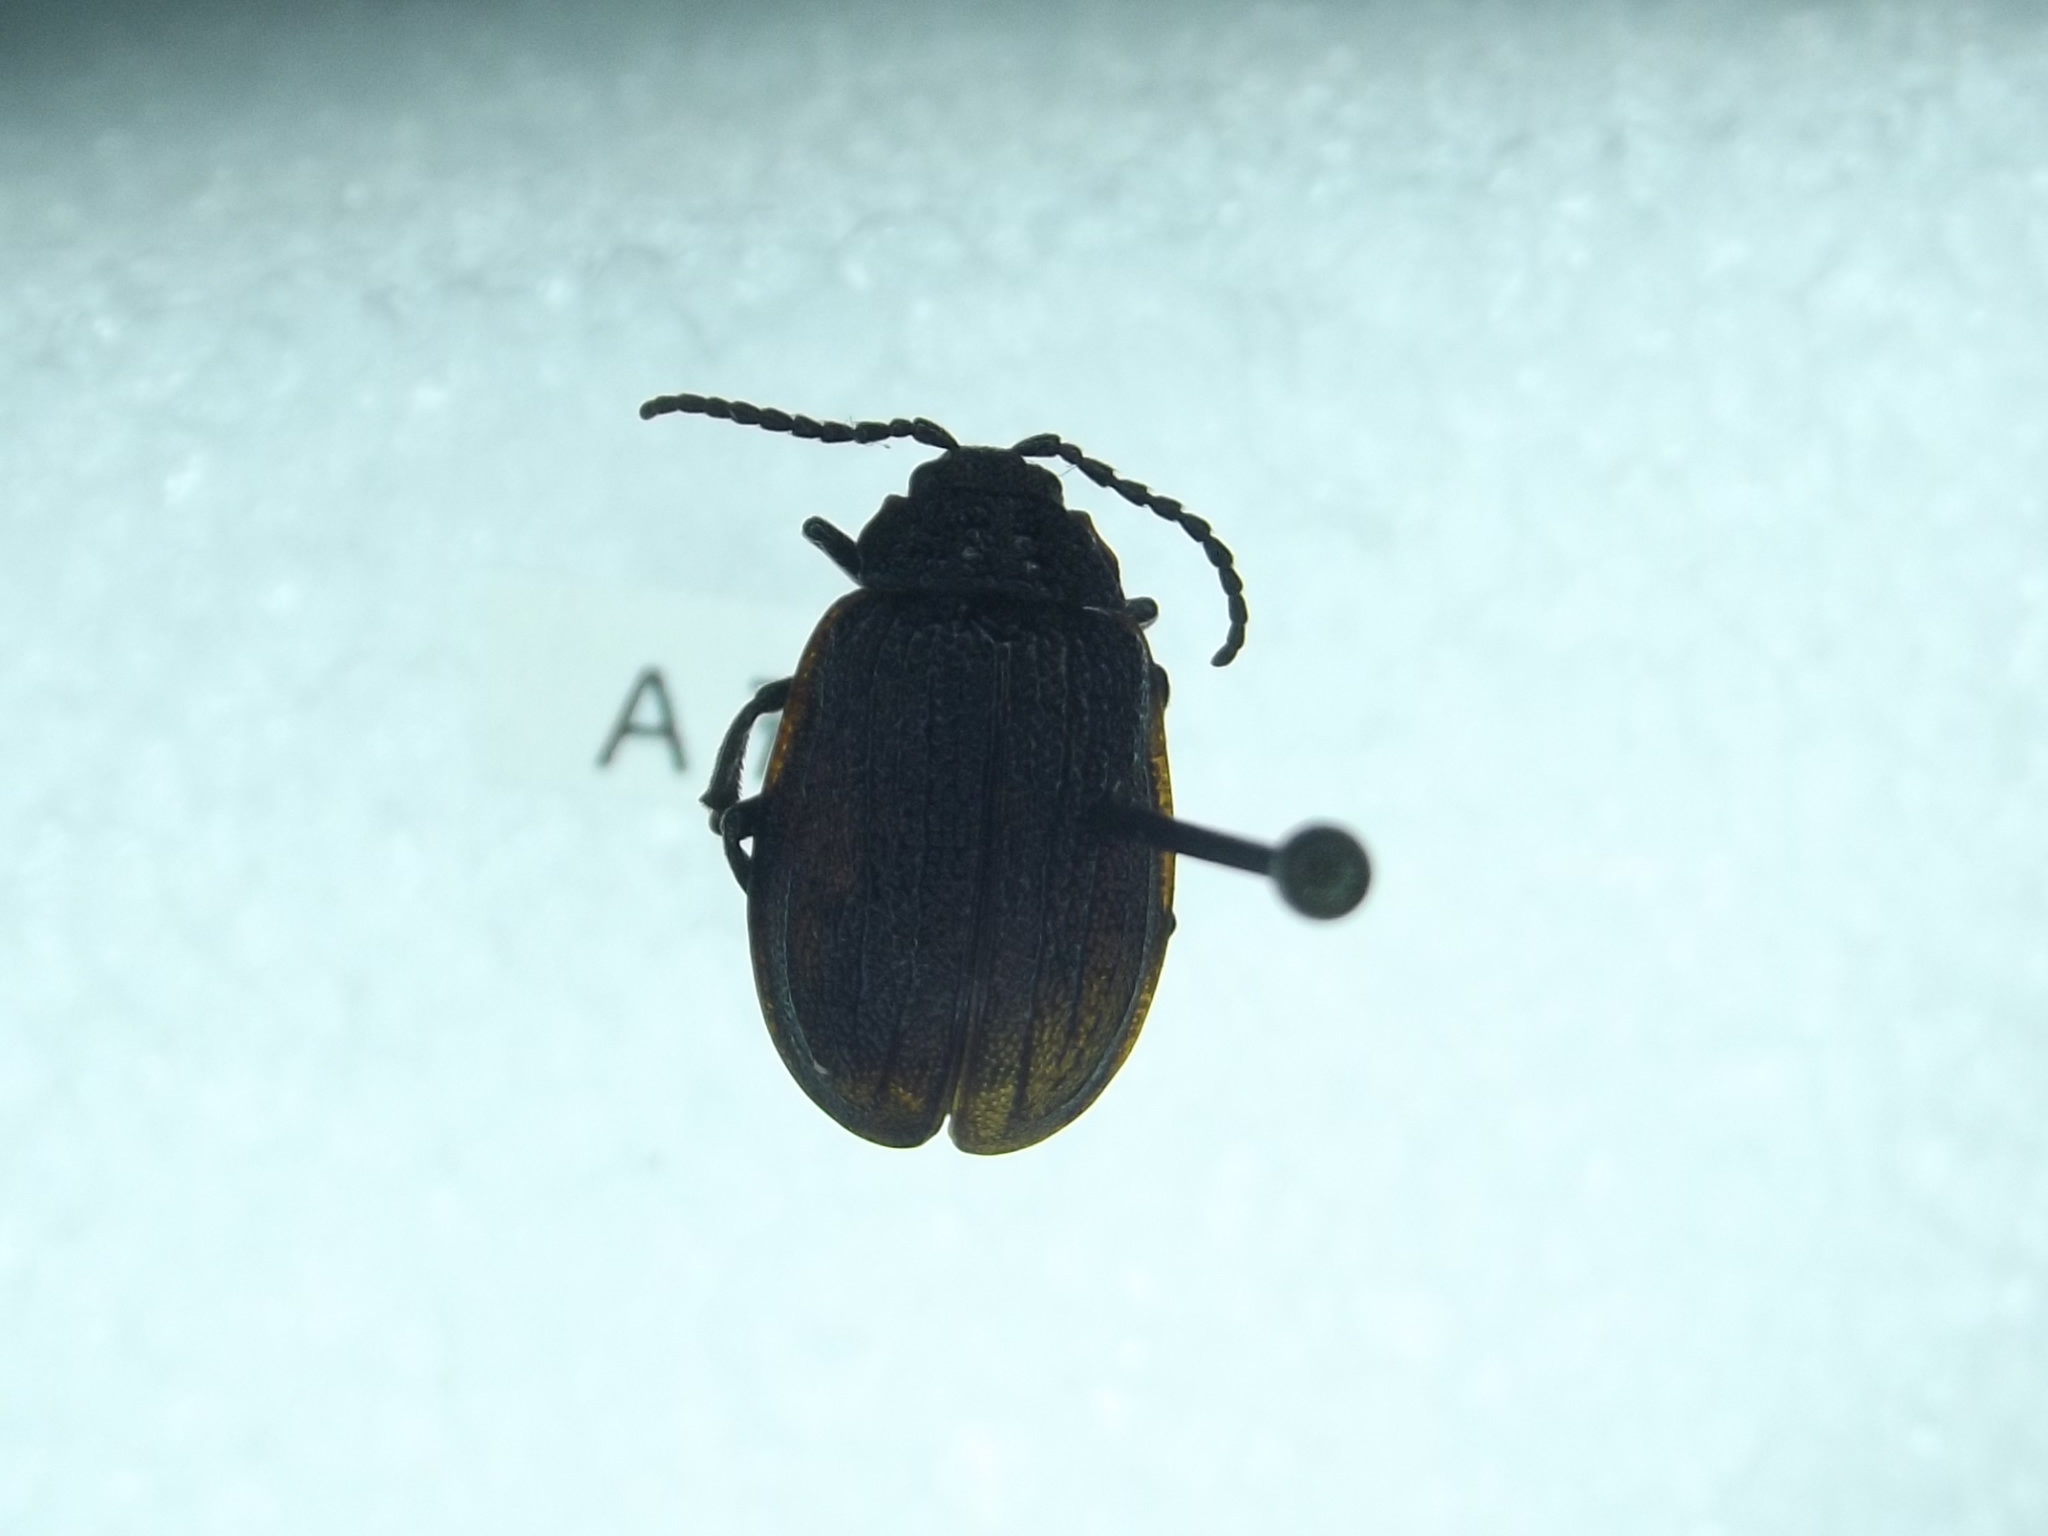Galeruca_tanaceti: (622, 382, 1255, 1163)
